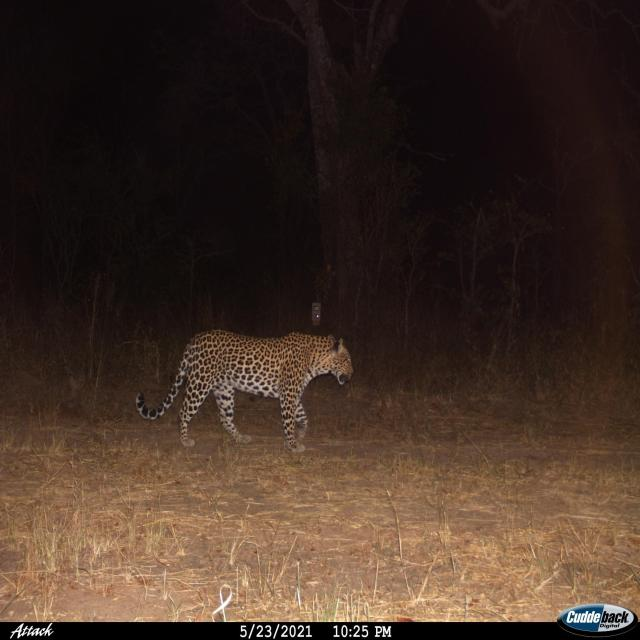Leopard: (129, 319, 350, 462)
